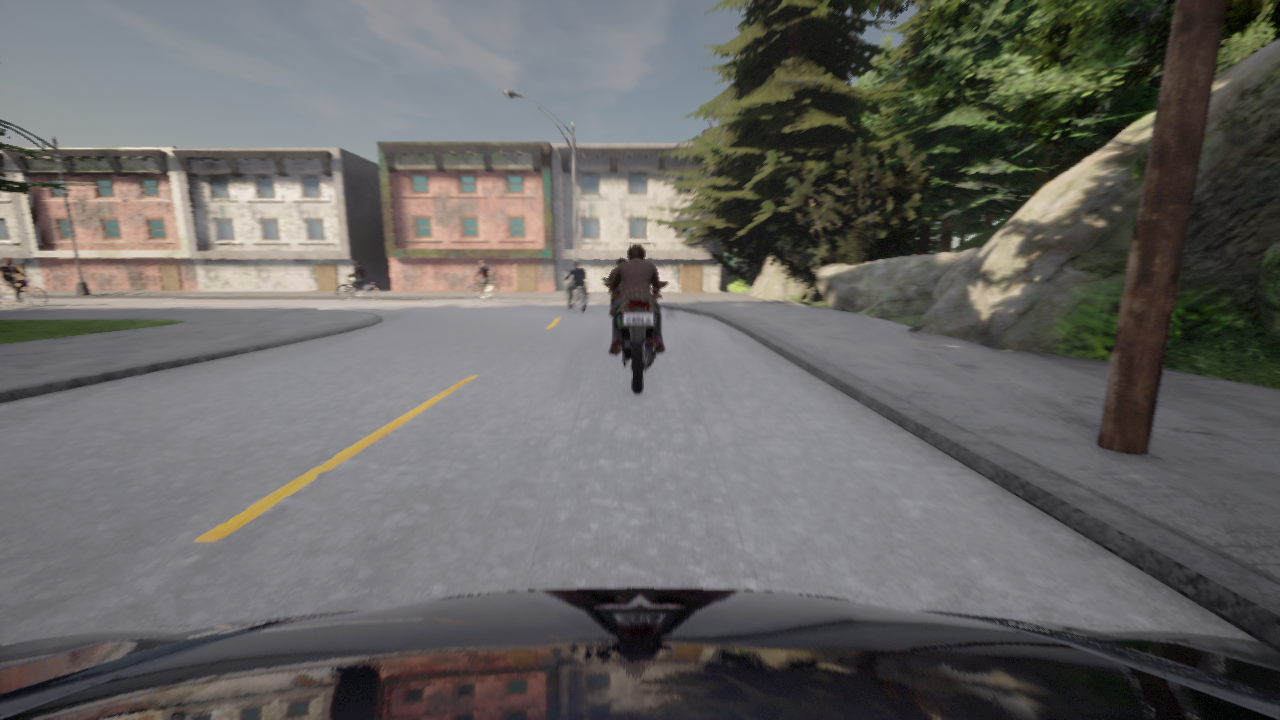cyclist: (0, 588, 1279, 719), (603, 282, 667, 393), (0, 276, 46, 305), (561, 273, 588, 312), (336, 275, 376, 300), (466, 278, 496, 302), (602, 278, 621, 302)
